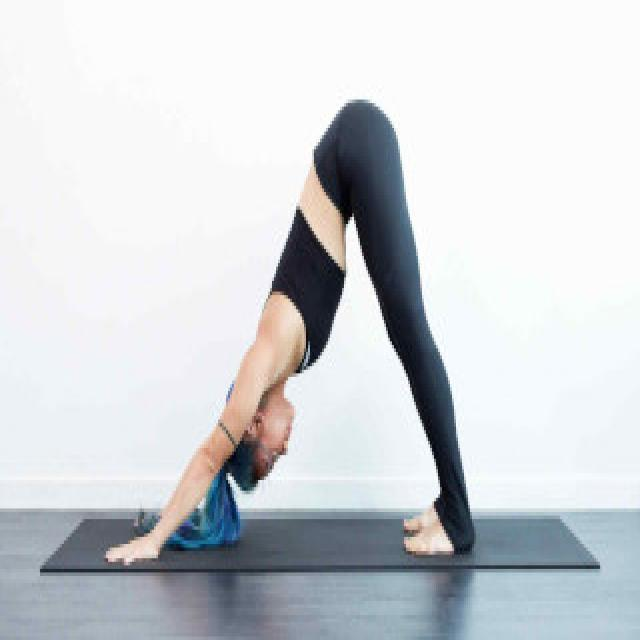yoga-pose downward: (123, 90, 471, 558)
